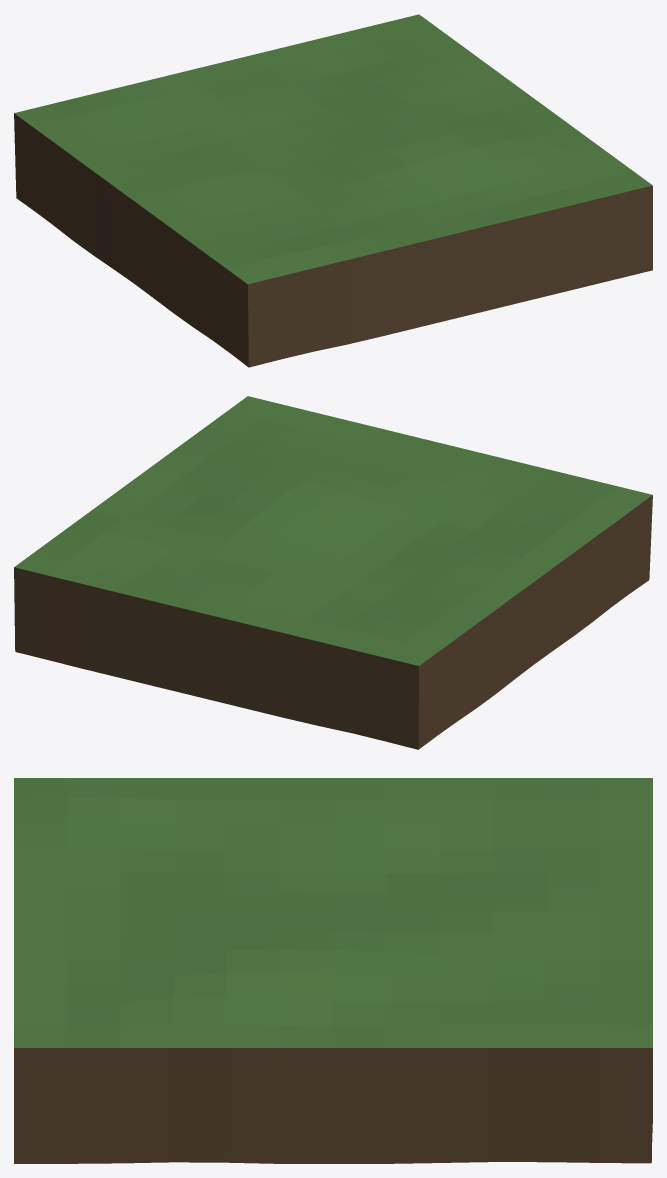
Rendered from grass_03.glb.
3 views of the same model, one above another, from view 1: azimuth 30°, elevation 25°; view 2: azimuth 150°, elevation 25°; view 3: azimuth 270°, elevation 25° (orthographic). The views are drawn at different scales.
Parts seen in each view (by area): view 1: Grid; view 2: Grid; view 3: Grid.
Boxes of the visible parts, left/top/right/bottom form: Grid: left=14, top=14, right=652, bottom=367; Grid: left=14, top=396, right=652, bottom=749; Grid: left=14, top=778, right=652, bottom=1163.
Size of the model in its own units: 1 by 0.2155 by 1.
